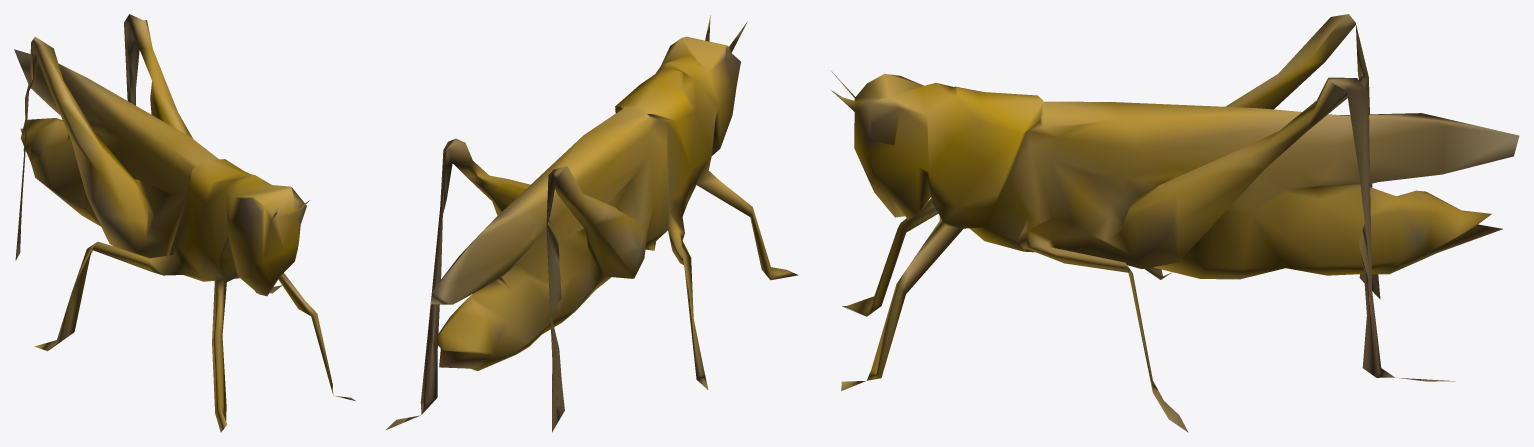
Rendered from bug_locust.glb.
3 views of the same model, side by side, from view 1: azimuth 30°, elevation 25°; view 2: azimuth 150°, elevation 25°; view 3: azimuth 270°, elevation 25° (orthographic). The views are drawn at different scales.
Visible parts, largest first — view 1: bug_locust; view 2: bug_locust; view 3: bug_locust.
Part boxes in pixels (x1,y1,x2,y2): bug_locust: [14, 14, 355, 432]; bug_locust: [386, 15, 798, 432]; bug_locust: [830, 14, 1519, 432].
Size of the model in its own units: 0.467 by 0.4319 by 0.8816.
